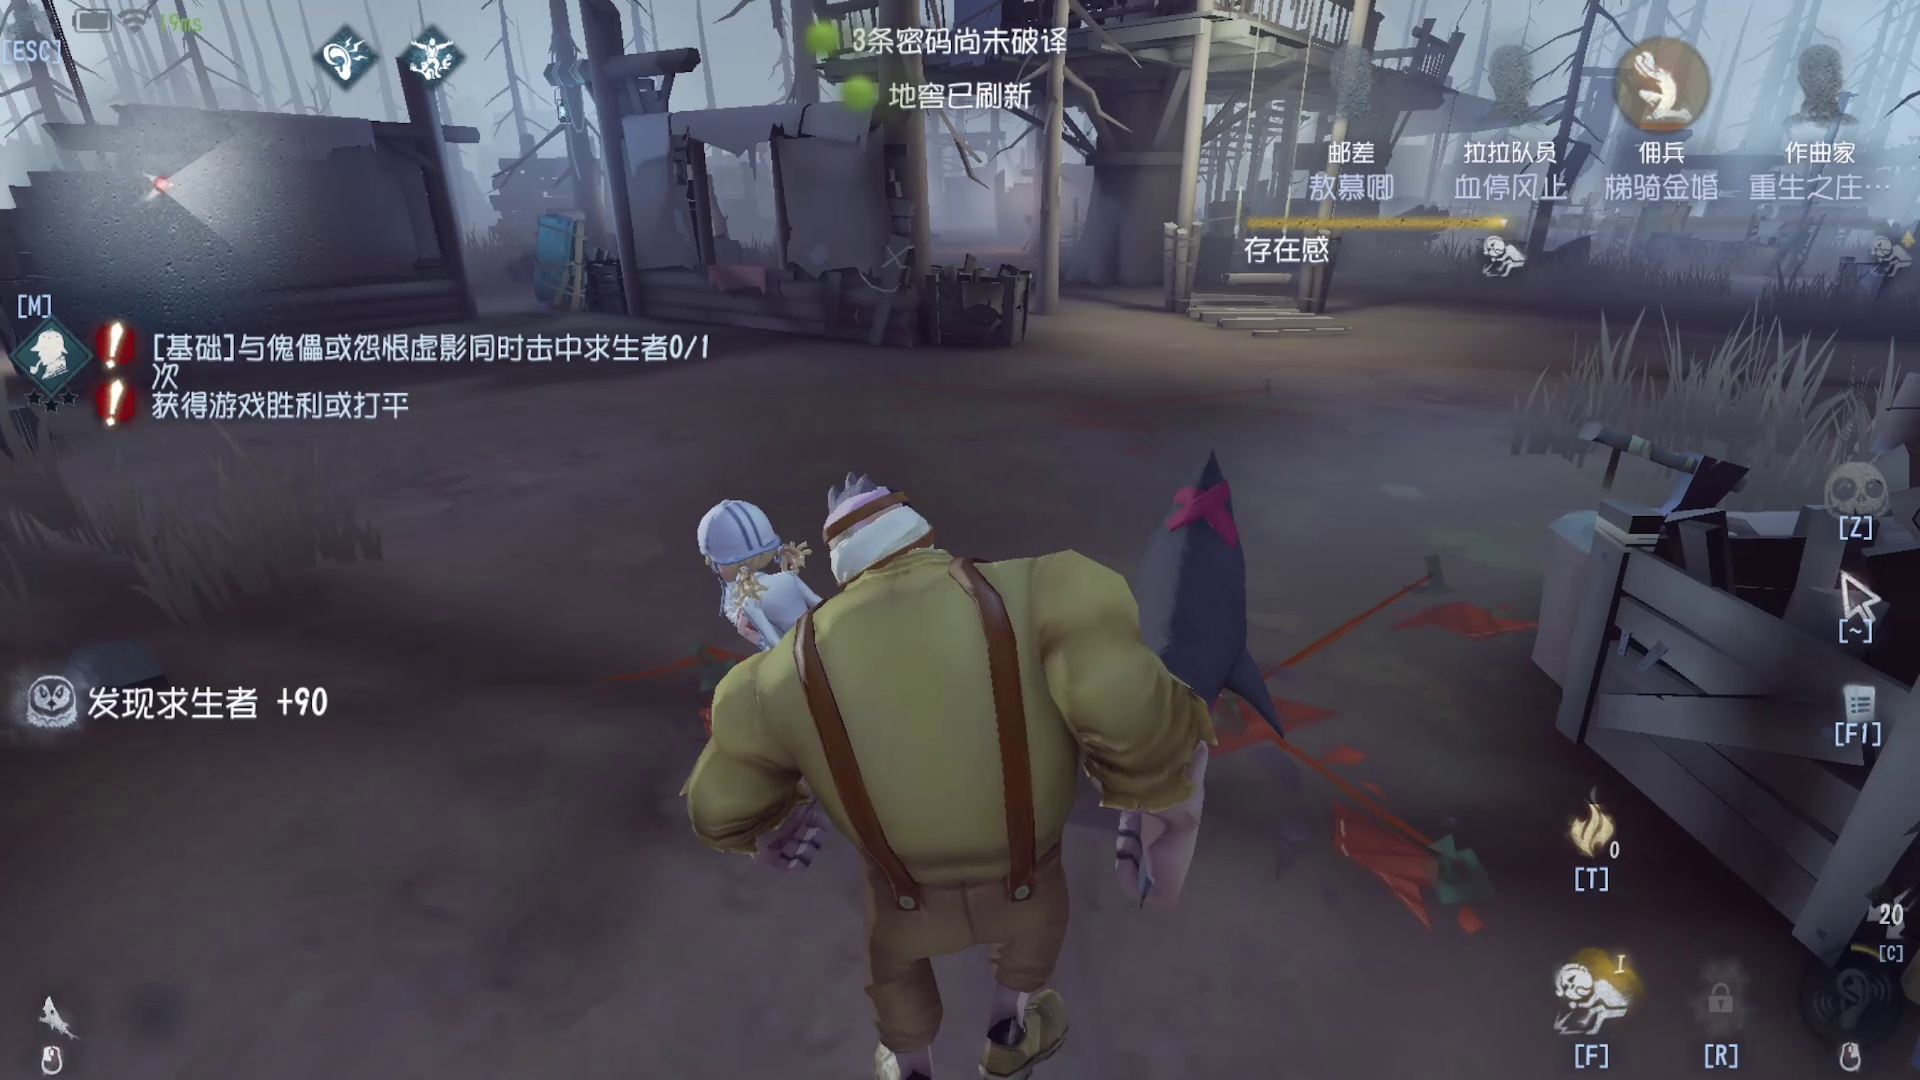木板: (514, 196, 603, 320)
求生者: (647, 477, 816, 605)
